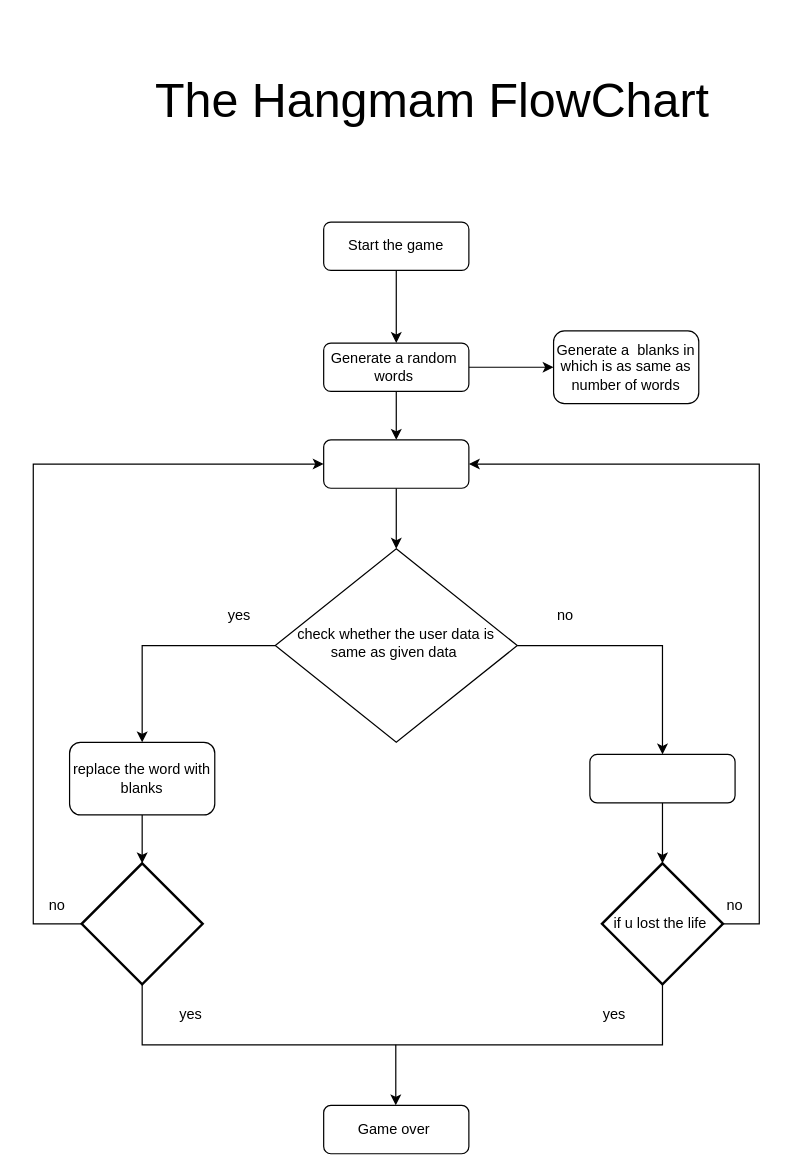
Some shapes in this 791 by 1175 pixel diagram are drawn without their labels. Here are the shapes that lost their labels. From the top down, the box of each, then its label:
(322, 439, 469, 488): get letters for the user as input
(589, 753, 735, 803): lose a life
(80, 862, 203, 985): Blanks are filled
